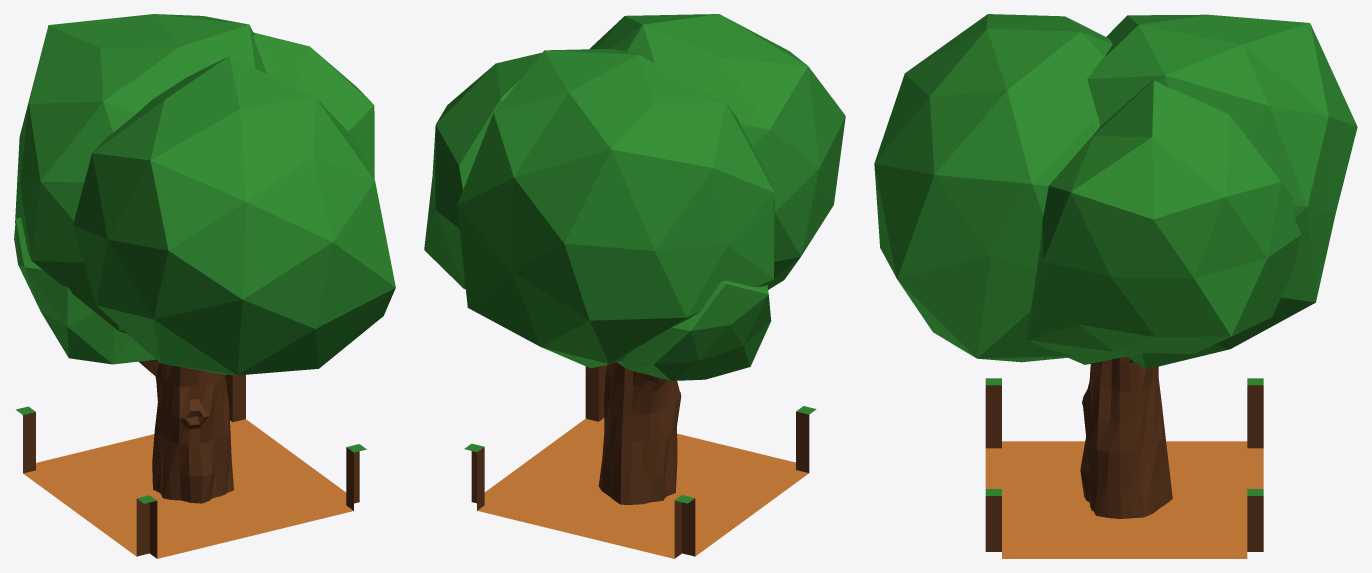
File: Path_2_Way_Target.fbx
3 views of the same model, side by side, from view 1: azimuth 30°, elevation 25°; view 2: azimuth 150°, elevation 25°; view 3: azimuth 270°, elevation 25° (orthographic). The views are drawn at different scales.
Parts seen in each view (by area): view 1: Path_4_Way_Target; view 2: Path_4_Way_Target; view 3: Path_4_Way_Target.
Boxes of the visible parts, x1,y1,x2,y2 form: Path_4_Way_Target: (14,14,395,558); Path_4_Way_Target: (424,14,845,558); Path_4_Way_Target: (874,14,1357,558).
Size of the model in its own units: 293 by 388 by 347.
